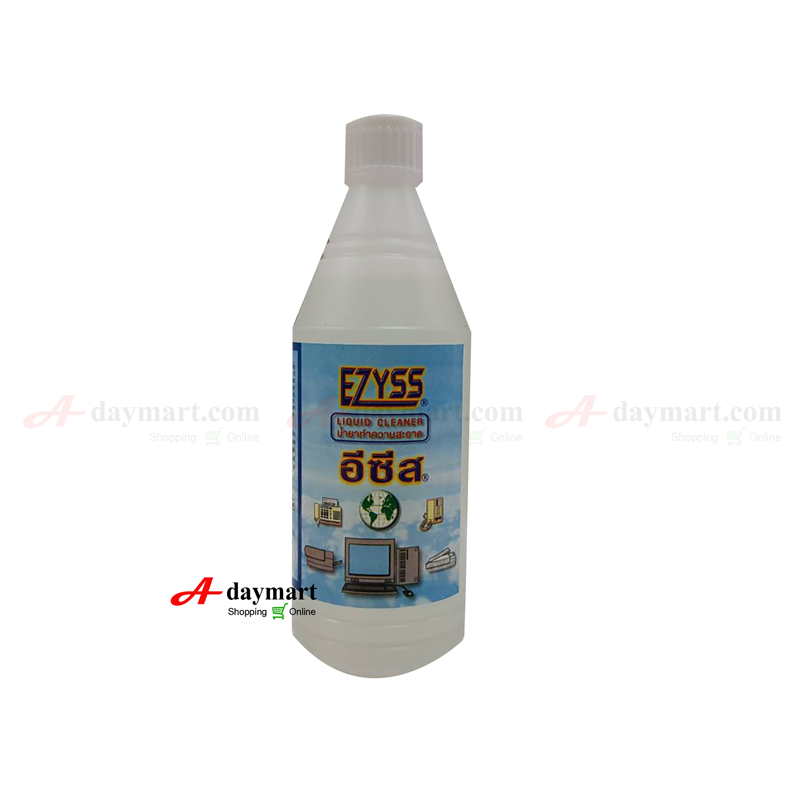Cleaning_solution: (279, 107, 477, 689)
